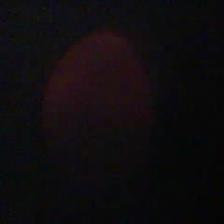fertile: (41, 32, 155, 198)
